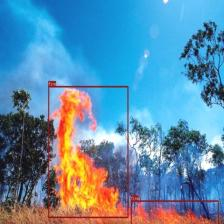fire: (48, 86, 128, 218), (130, 200, 218, 224)
